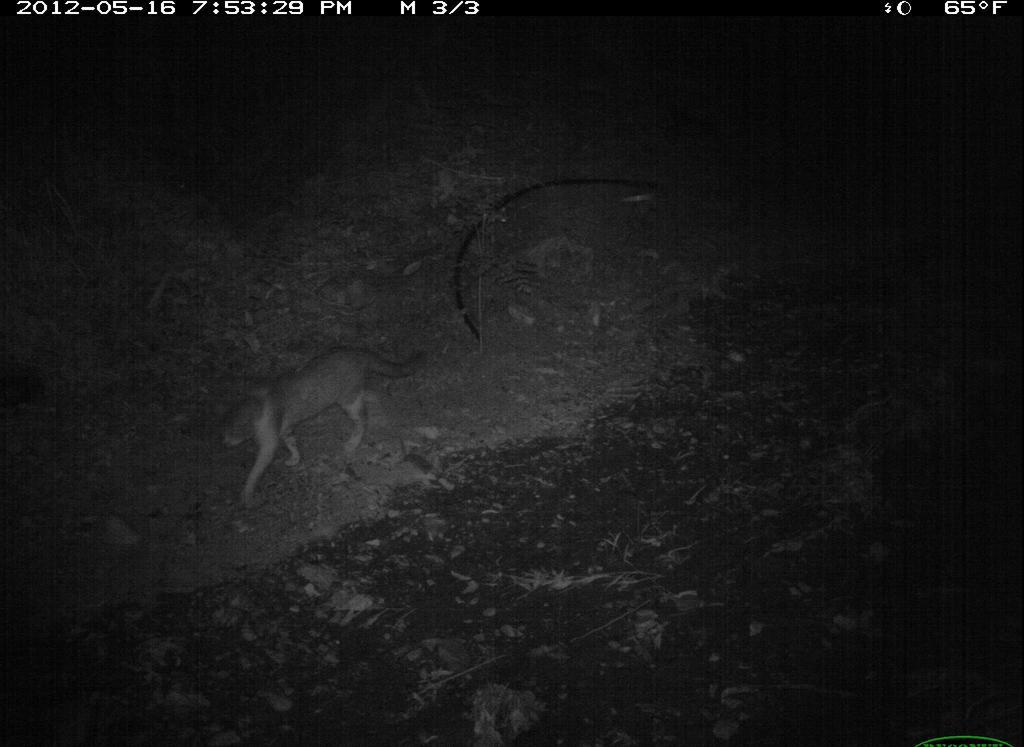cat: (210, 323, 438, 506)
